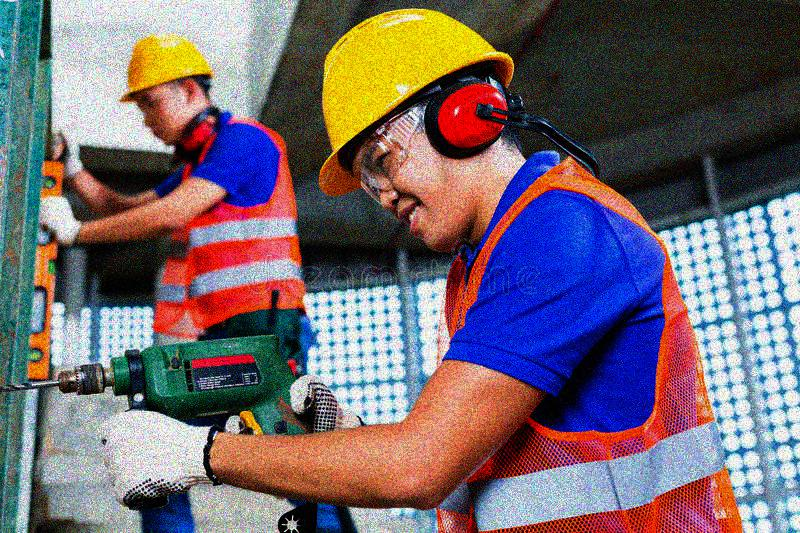helmet: (316, 7, 517, 250), (119, 31, 214, 145)
